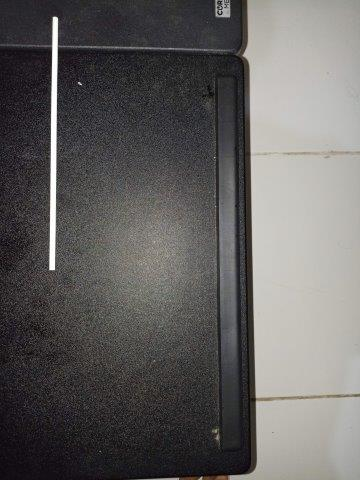sedotan: (49, 16, 58, 270)
